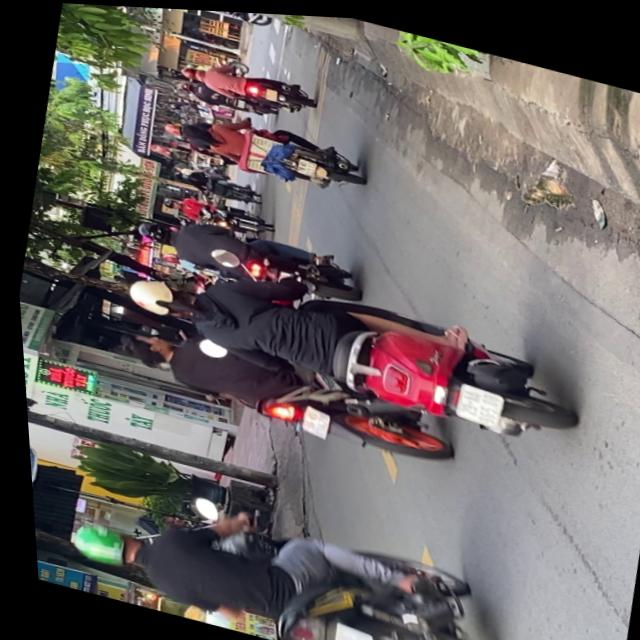helmet: (55, 516, 140, 574), (118, 270, 197, 323), (129, 217, 169, 246)
licenseplate: (107, 233, 586, 454), (44, 466, 507, 640), (100, 321, 453, 470), (123, 201, 360, 310), (151, 96, 367, 200)
motorcyclist: (113, 328, 171, 373), (175, 117, 213, 144)
nohelmet: (446, 379, 498, 424), (292, 403, 322, 435), (318, 620, 365, 640), (290, 155, 312, 173)
